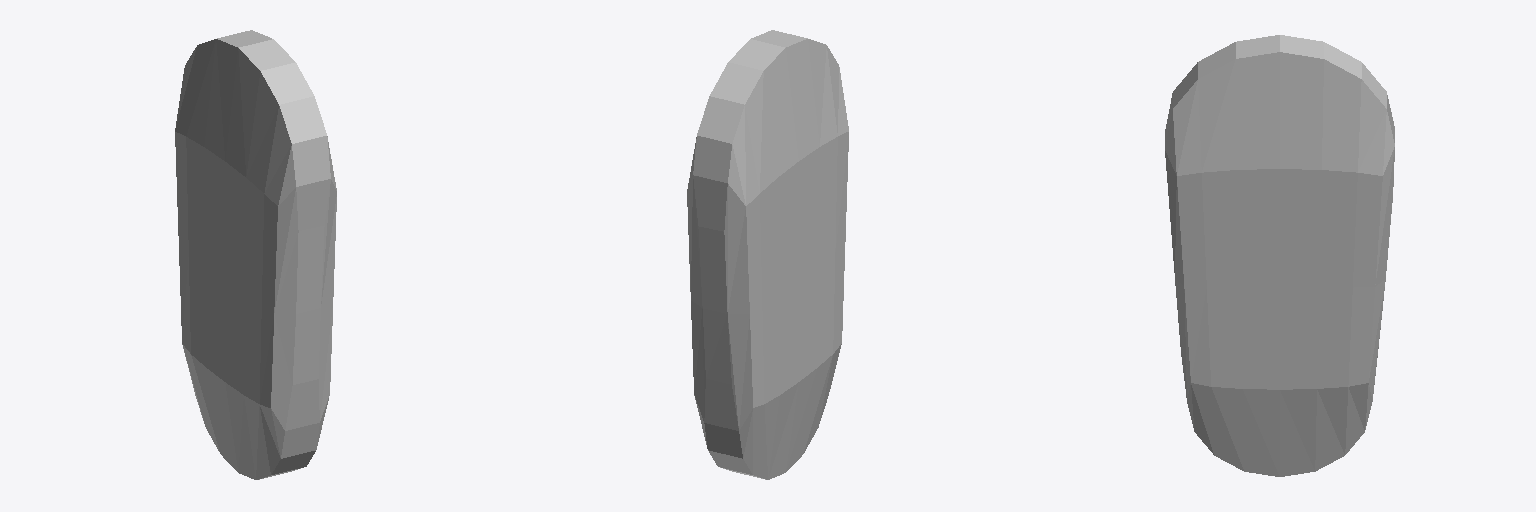
The model's file is track_collision4.obj.
The picture shows the model from 3 angles: view 1: azimuth 30°, elevation 25°; view 2: azimuth 150°, elevation 25°; view 3: azimuth 270°, elevation 25°; orthographic projection.
Parts seen in each view (by area): view 1: Cylinder; view 2: Cylinder; view 3: Cylinder.
Boxes of the visible parts, <box> form: Cylinder: <box>175,30,336,479</box>; Cylinder: <box>687,30,848,479</box>; Cylinder: <box>1165,35,1394,476</box>.
Size of the model in its own units: 0.3607 by 2.38 by 1.17.